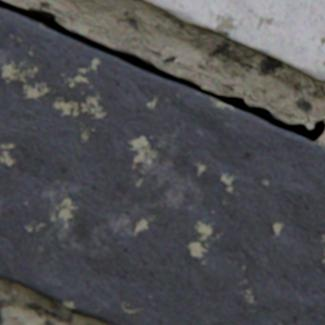brick: (0, 8, 324, 324), (143, 0, 324, 80)
crack: (0, 0, 324, 141)
